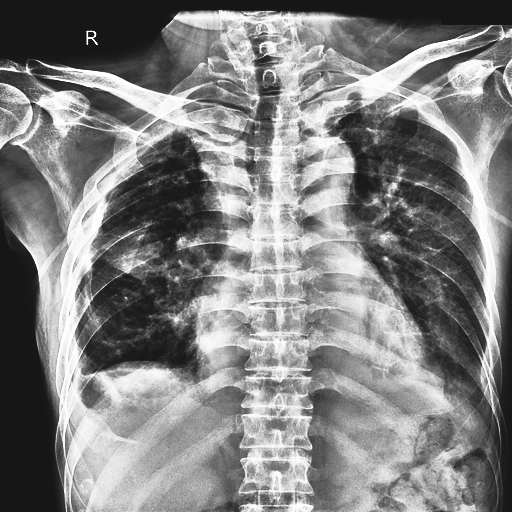Aortic enlargement: (98, 225, 161, 279)
Calcification: (64, 164, 120, 351), (303, 80, 430, 128), (57, 353, 106, 415)
Cardiomegaly: (112, 142, 201, 349), (362, 146, 464, 325)
Consolidation: (291, 134, 356, 207)
Lung Opacity: (64, 164, 120, 351), (91, 197, 111, 230)
Nodule/Mass: (190, 296, 428, 392)
Other lesion: (112, 142, 201, 349), (362, 146, 464, 325), (432, 337, 490, 409)
Pleural effusion: (65, 96, 197, 439), (57, 353, 106, 415)
Pleural thickening: (186, 101, 254, 222), (432, 337, 490, 409), (111, 224, 159, 280)
Pneumothorax: (112, 142, 201, 349), (362, 146, 464, 325)
